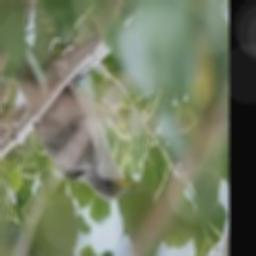Cuckoo: (15, 40, 139, 201)
